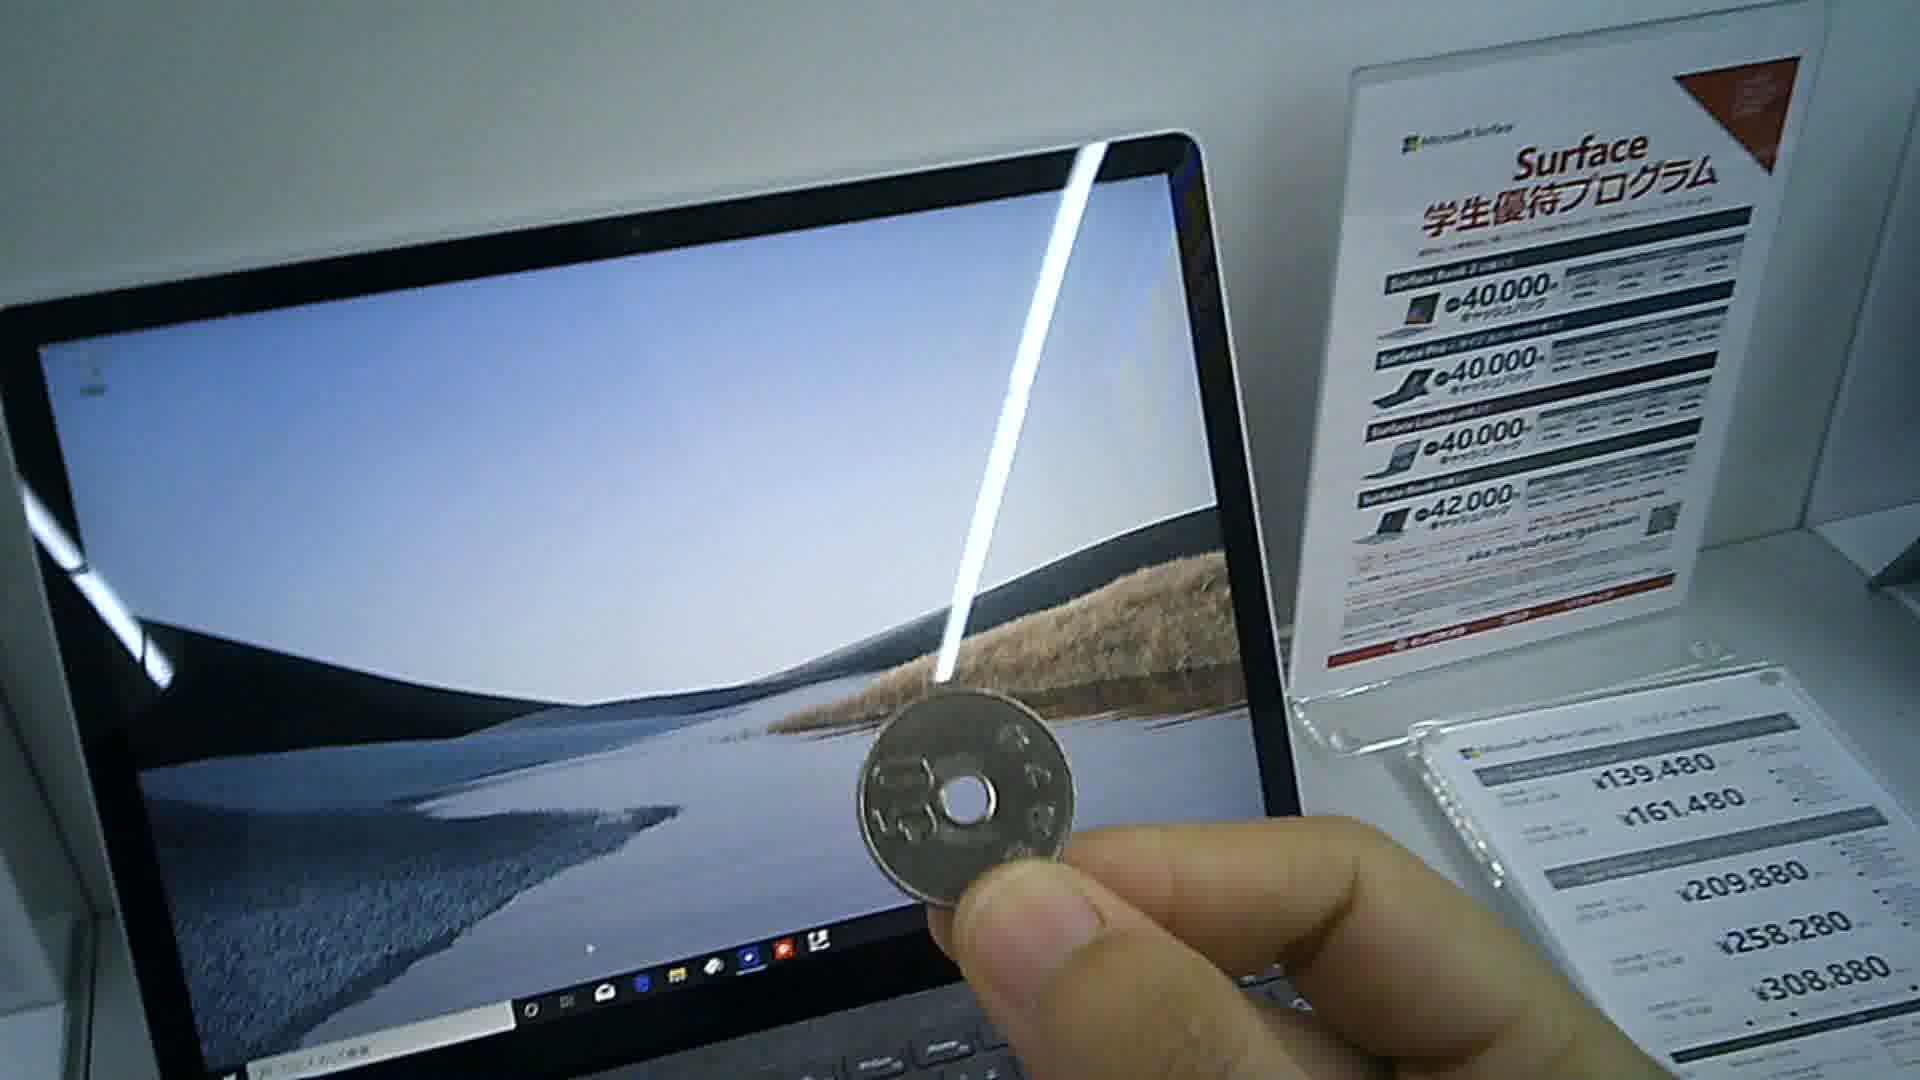50 Yen: (847, 684, 1080, 920)
